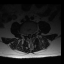CCS_normal: (29, 33, 31, 41)
LFS_stenosis: (32, 31, 34, 36)
LLS_severe_stenosis: (31, 32, 32, 37)
RFS_stenosis: (25, 32, 27, 37)
RLS_stenosis: (27, 32, 29, 38)
